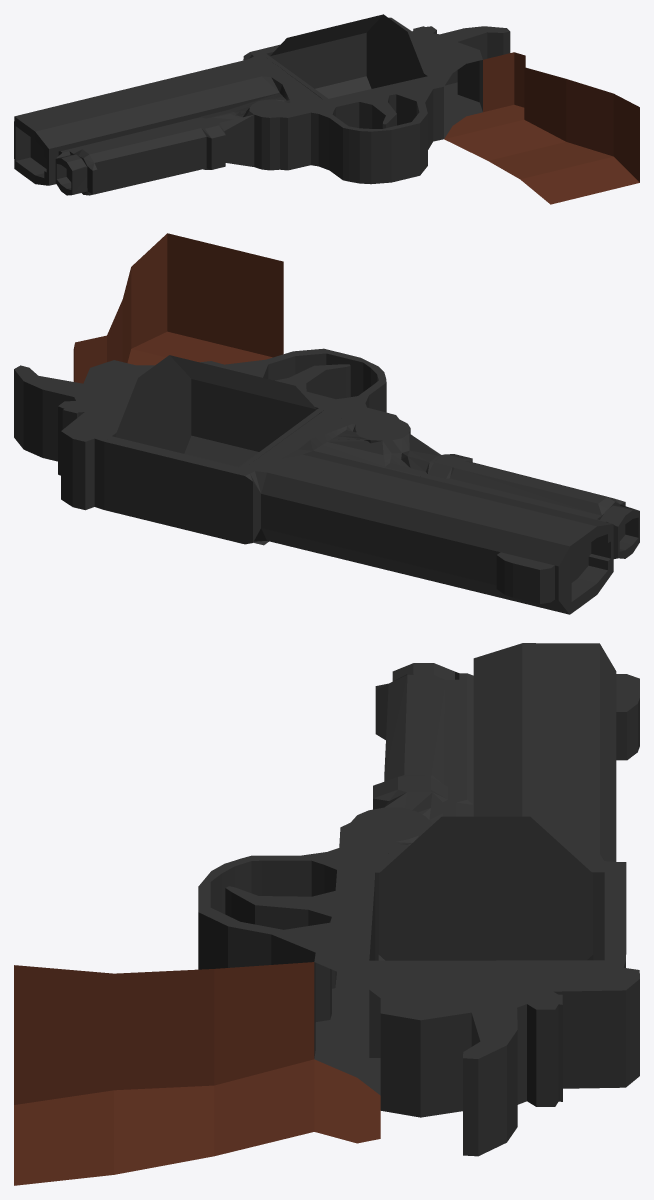
3 renders of one model, top to bottom at view 1: azimuth 30°, elevation 25°; view 2: azimuth 150°, elevation 25°; view 3: azimuth 270°, elevation 25°, orthographic. The views are drawn at different scales.
Visible parts, largest first — view 1: imagetostl_mesh; view 2: imagetostl_mesh; view 3: imagetostl_mesh.
Part boxes in pixels (x1,y1,x2,y2): imagetostl_mesh: (14,14,639,204); imagetostl_mesh: (14,233,639,614); imagetostl_mesh: (14,643,639,1185).
Size of the model in its own units: 467 by 100 by 292.
